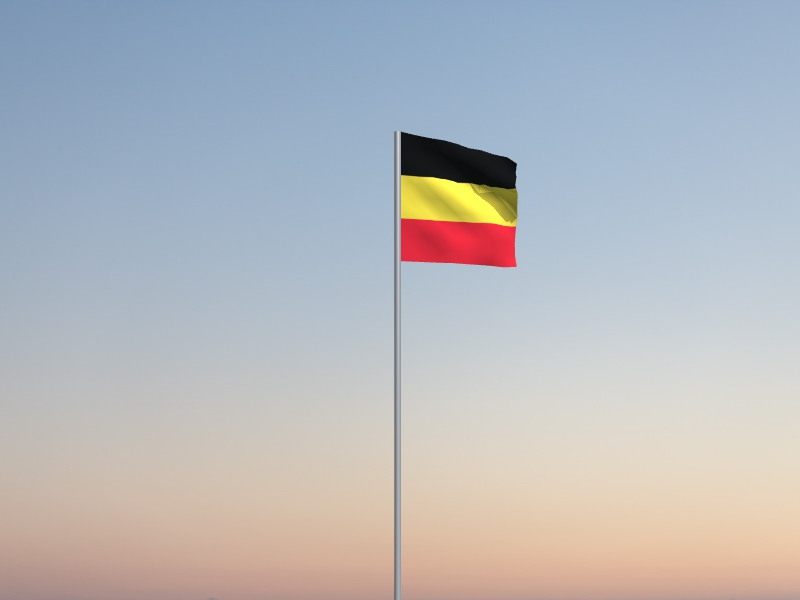be: (402, 132, 520, 270)
